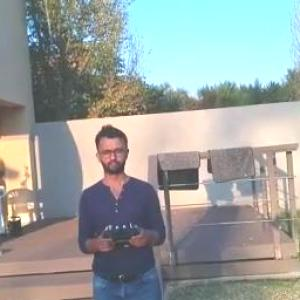follow: (73, 117, 171, 299)
